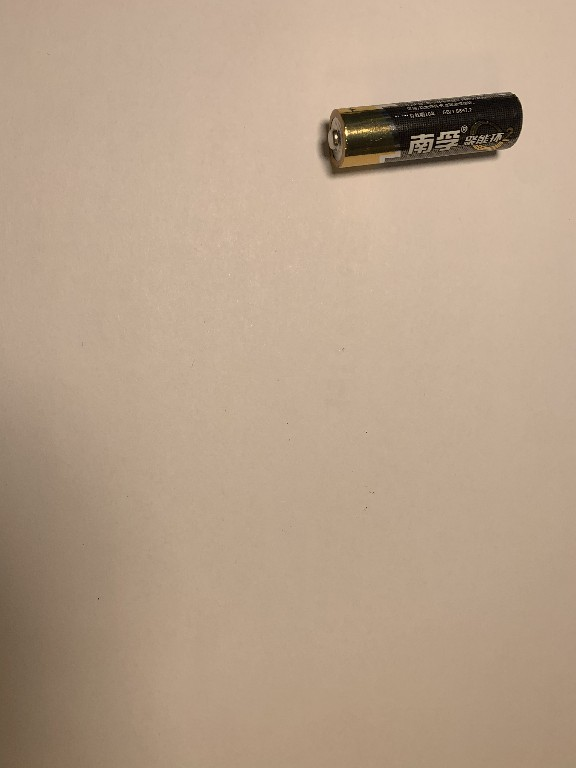charge: (321, 87, 526, 176)
